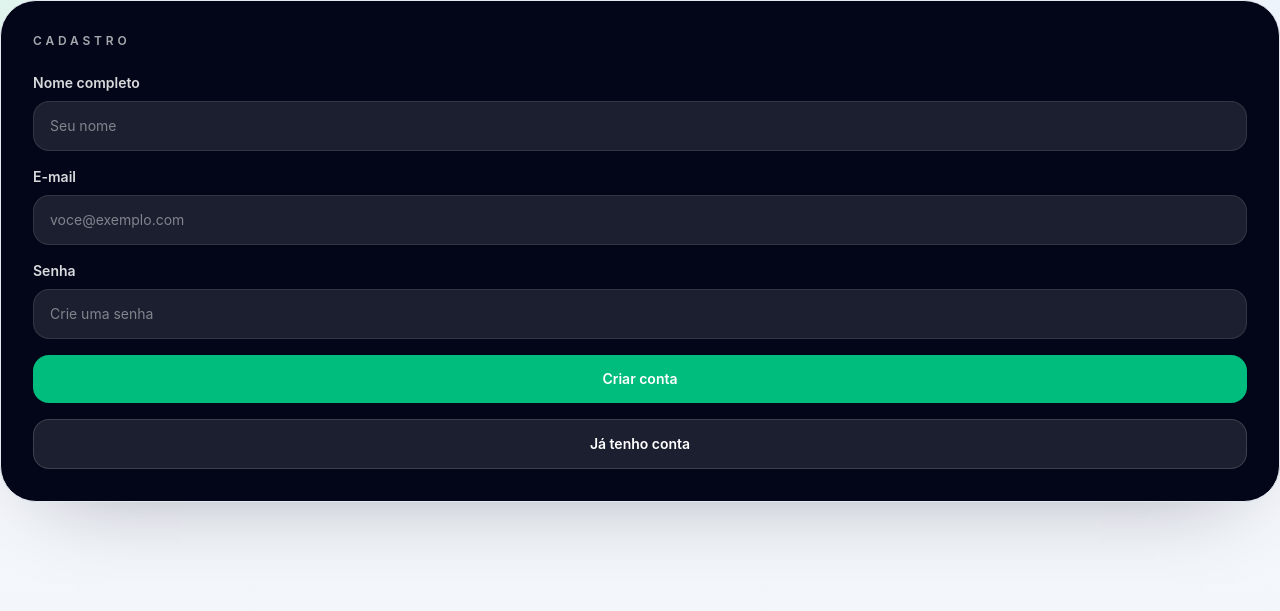
Test case: SignupForm › hides raw email rate limit errors
In the field with placeholder "voce@exemplo.com": (640, 220) [33,195,1247,245], type "test@example.com"
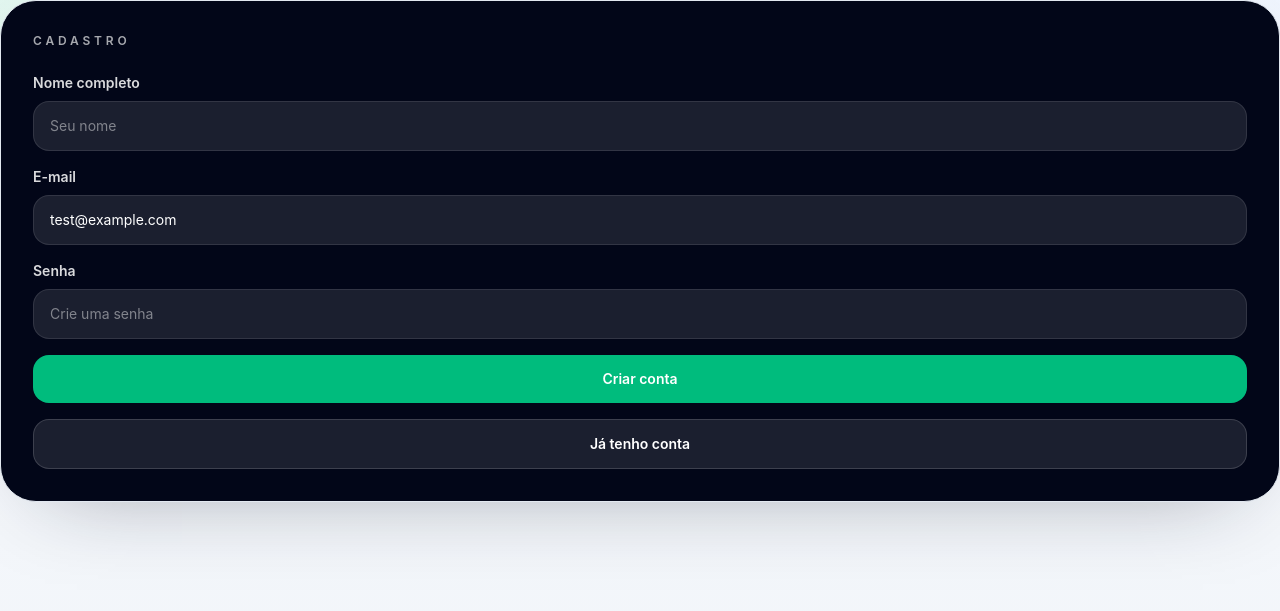
In the password field with placeholder "Crie uma senha": (640, 314) [33,289,1247,339], type "secret"
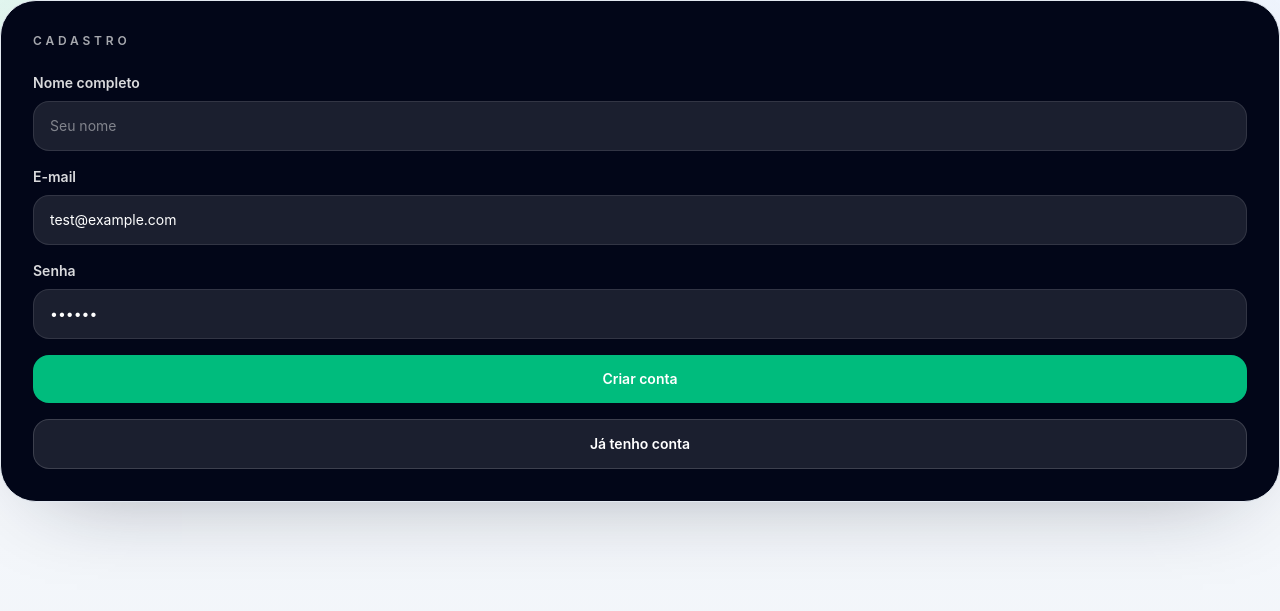
Submit the form from the button "Criar conta", box [33,355,1247,403]
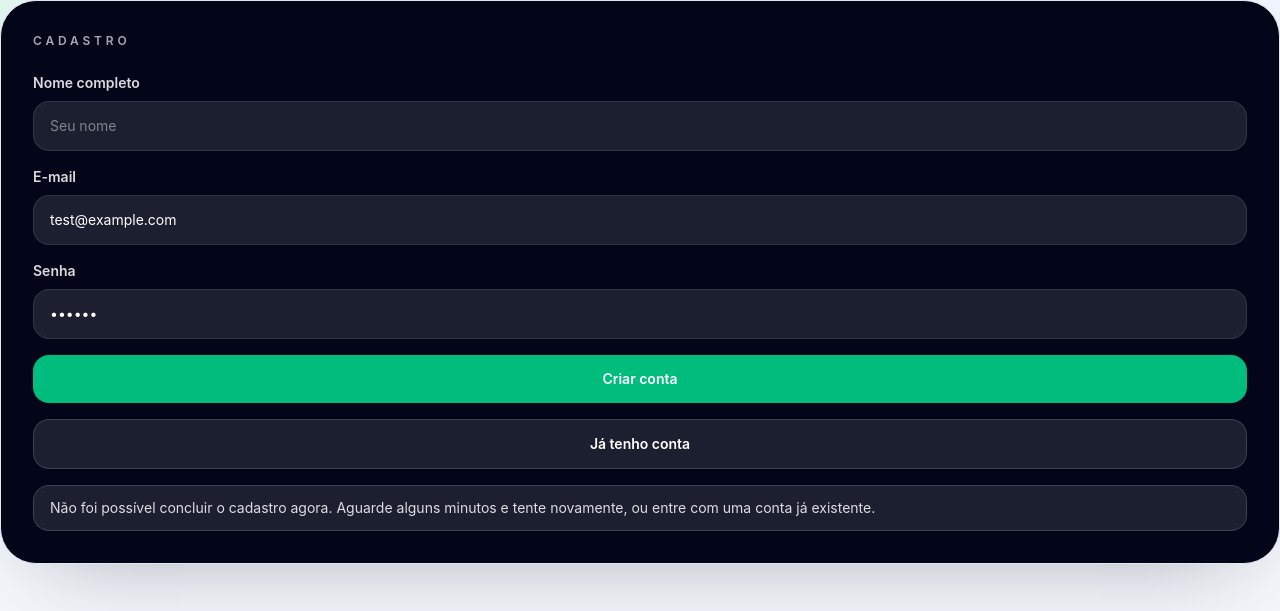
Check: the text "Não foi possível concluir o cadastro agora. Aguarde alguns minutos e tente novamente, ou entre com uma conta já existent" is shown, box [50,499,875,516]
